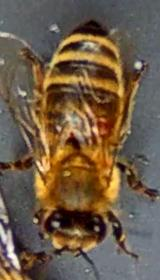varroa_mite: (86, 112, 117, 142)
